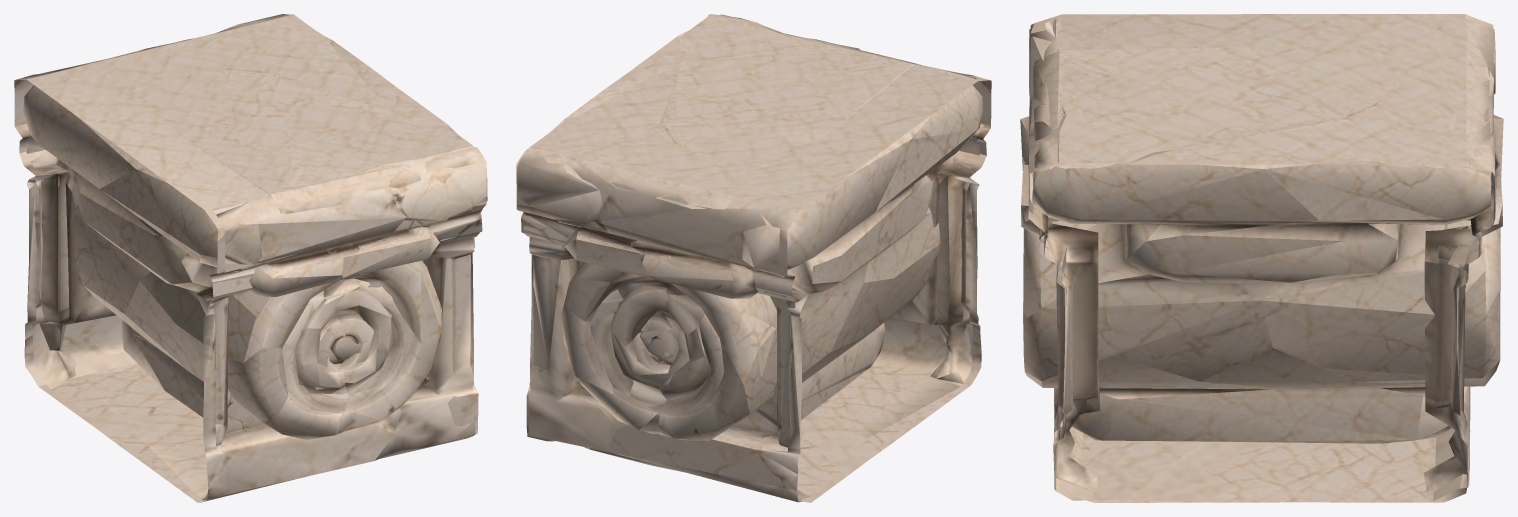
File: marble-floral-band.glb
The picture shows the model from 3 angles, left to right: view 1: azimuth 30°, elevation 25°; view 2: azimuth 150°, elevation 25°; view 3: azimuth 270°, elevation 25°; orthographic projection. The views are drawn at different scales.
Visible parts, largest first — view 1: mid, left, right; view 2: mid, left, right; view 3: right, mid, left.
Part boxes in pixels (x1=…): mid: x1=14, y1=14, x2=486, y2=502; left: x1=23, y1=18, x2=487, y2=439; right: x1=21, y1=24, x2=448, y2=500; mid: x1=517, y1=14, x2=991, y2=502; left: x1=516, y1=14, x2=982, y2=472; right: x1=555, y1=32, x2=983, y2=500; right: x1=1020, y1=18, x2=1503, y2=443; mid: x1=1028, y1=14, x2=1495, y2=501; left: x1=1021, y1=29, x2=1502, y2=502.
Size of the model in its own units: 0.3935 by 0.4112 by 0.5309.
Materials: 1 (1 with a texture image).
